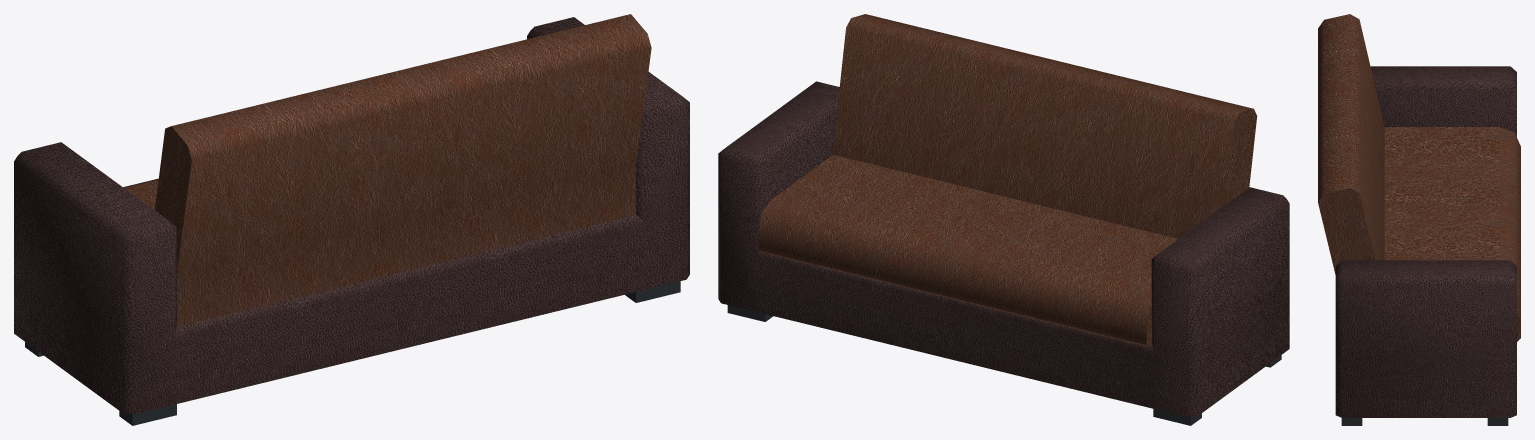
Rendered from Armchair_22.glb.
3 renders of one model, left to right at view 1: azimuth 30°, elevation 25°; view 2: azimuth 150°, elevation 25°; view 3: azimuth 270°, elevation 25°, orthographic. The views are drawn at different scales.
Visible parts, largest first — view 1: Armchair_22; view 2: Armchair_22; view 3: Armchair_22.
Part boxes in pixels (<box>): Armchair_22: <box>14,14,689,425</box>; Armchair_22: <box>718,14,1289,425</box>; Armchair_22: <box>1318,14,1520,425</box>.
Bounding box in the file's own units: 2.39 × 1.15 × 0.953.
3 materials, 3 textured.
